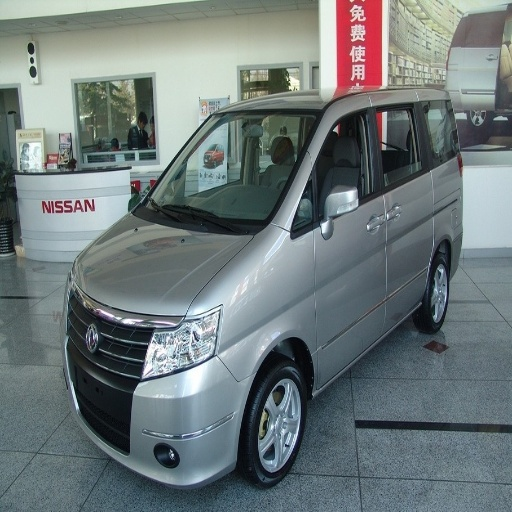front_bumper: (70, 291, 254, 485)
front_glass: (134, 114, 320, 232)
front_left_door: (291, 105, 386, 381)
